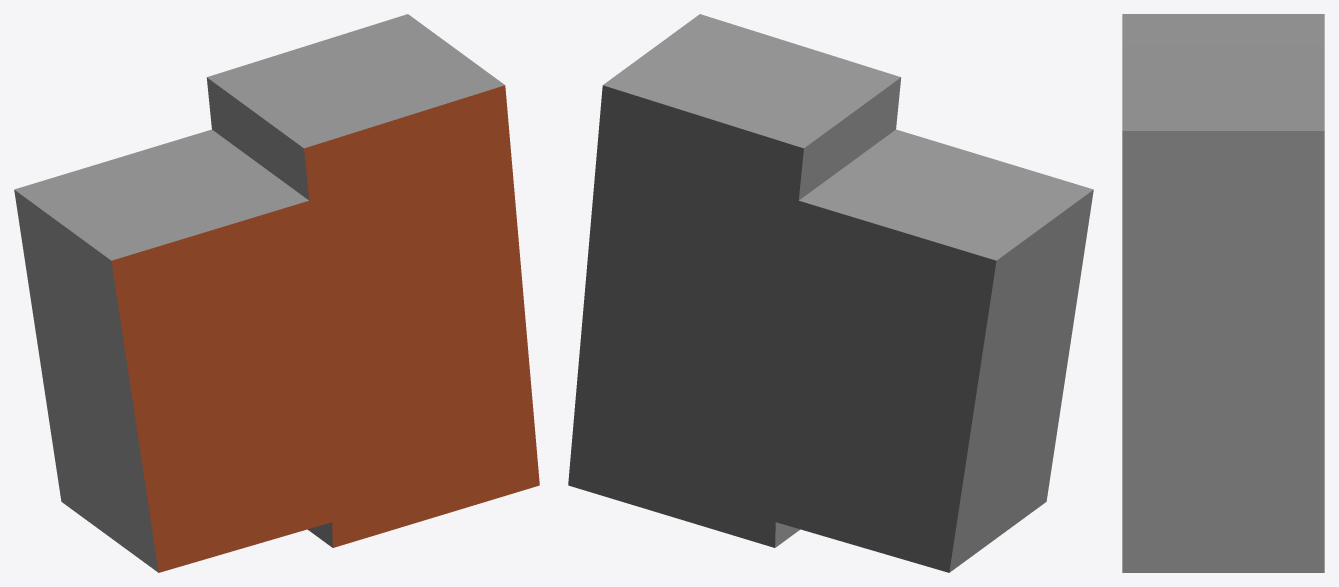
Rendered from construction_2437_assumed_A_Casa_h6m.obj.
3 views of the same model, side by side, from view 1: azimuth 30°, elevation 25°; view 2: azimuth 150°, elevation 25°; view 3: azimuth 270°, elevation 25° (orthographic). The views are drawn at different scales.
Parts seen in each view (by area): view 1: construction_2437_assumed_A_Casa; view 2: construction_2437_assumed_A_Casa; view 3: construction_2437_assumed_A_Casa.
Boxes of the visible parts, <box> form: construction_2437_assumed_A_Casa: <box>14,14,539,572</box>; construction_2437_assumed_A_Casa: <box>568,14,1093,572</box>; construction_2437_assumed_A_Casa: <box>1122,14,1324,572</box>.
Size of the model in its own units: 15.25 by 14.32 by 6.
